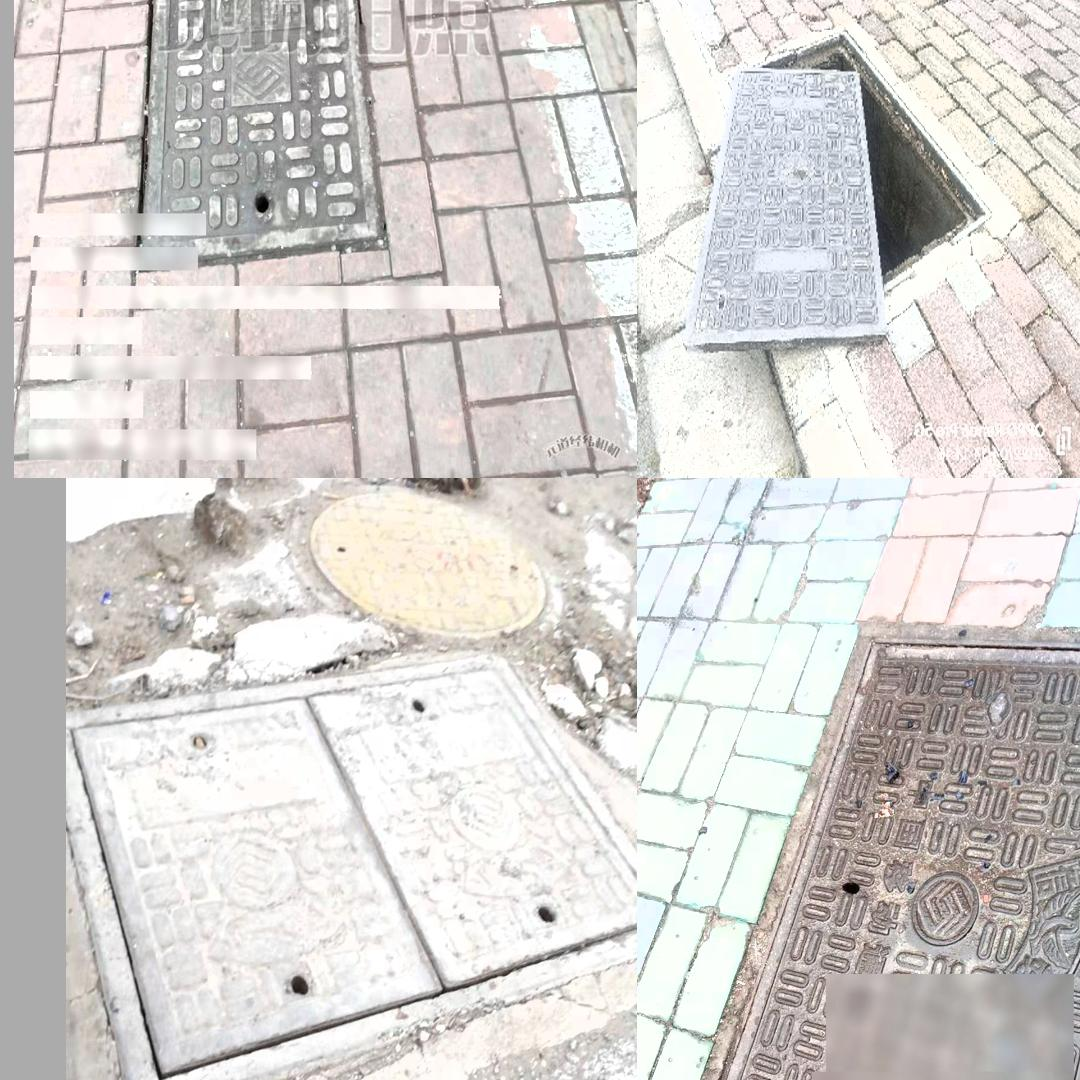good: (66, 651, 636, 1080), (699, 635, 1080, 1080), (133, 0, 386, 273), (308, 487, 547, 638)
uncovered: (685, 15, 1018, 354)
